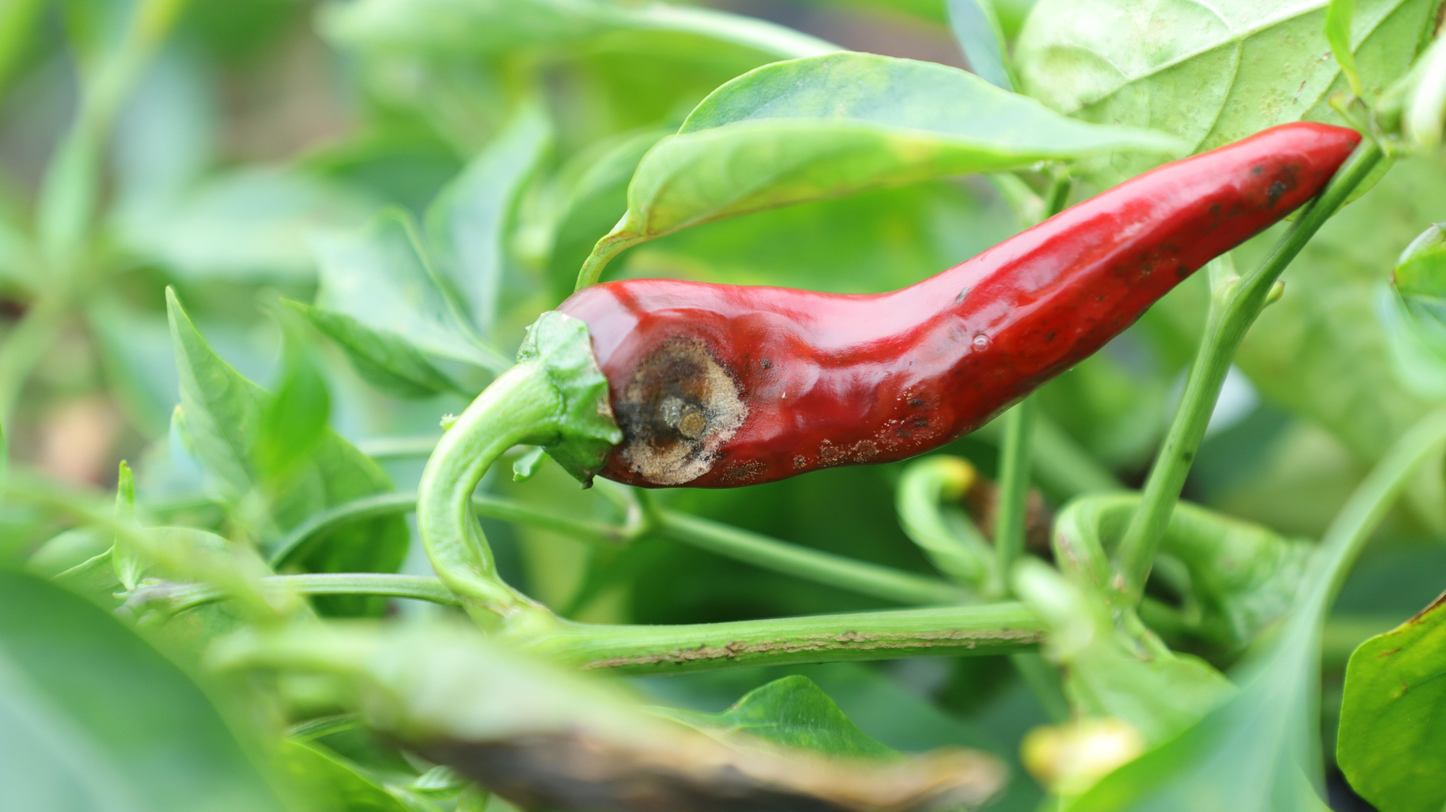Busuk Buah Antraknosa: (545, 117, 1364, 492)
